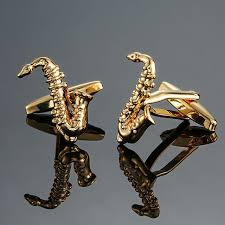Saxophone: (116, 42, 225, 166), (1, 55, 100, 166)
